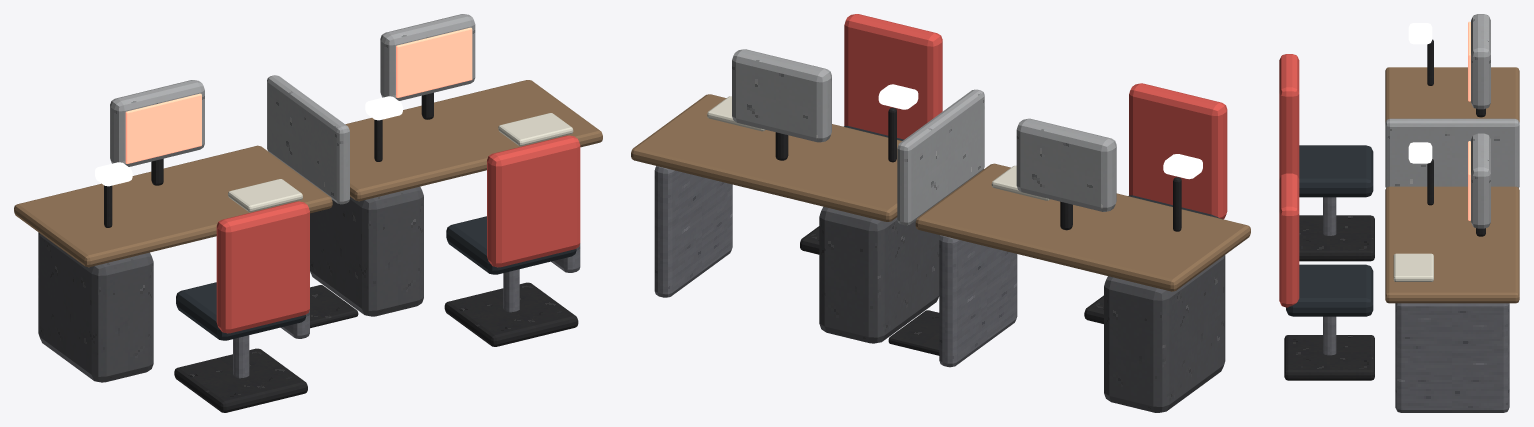
Rendered from decor_sec_officer_desk_bank.glb.
3 renders of one model, left to right at view 1: azimuth 30°, elevation 25°; view 2: azimuth 150°, elevation 25°; view 3: azimuth 270°, elevation 25°, orthographic. The views are drawn at different scales.
Parts seen in each view (by area): view 1: DEC_SecOfficerDeskBank__Desk_Top_1, DEC_SecOfficerDeskBank__Desk_Top_2, DEC_SecOfficerDeskBank__Desk_Drawers_1, DEC_SecOfficerDeskBank__Desk_Drawers_2, DEC_SecOfficerDeskBank__Chair_Back_2, DEC_SecOfficerDeskBank__Chair_Back_1, DEC_SecOfficerDeskBank__Divider, DEC_SecOfficerDeskBank__Chair_Base_2, DEC_SecOfficerDeskBank__Chair_Base_1, DEC_SecOfficerDeskBank__Screen_1, DEC_SecOfficerDeskBank__Screen_2, DEC_SecOfficerDeskBank__Monitor_2 (+10 smaller); view 2: DEC_SecOfficerDeskBank__Desk_Top_1, DEC_SecOfficerDeskBank__Desk_Top_2, DEC_SecOfficerDeskBank__Desk_Drawers_1, DEC_SecOfficerDeskBank__Desk_Drawers_2, DEC_SecOfficerDeskBank__Chair_Back_1, DEC_SecOfficerDeskBank__Chair_Back_2, DEC_SecOfficerDeskBank__Desk_Leg_2, DEC_SecOfficerDeskBank__Desk_Leg_1, DEC_SecOfficerDeskBank__Divider, DEC_SecOfficerDeskBank__Monitor_1, DEC_SecOfficerDeskBank__Monitor_2, DEC_SecOfficerDeskBank__Floor_Anchor (+4 smaller); view 3: DEC_SecOfficerDeskBank__Desk_Top_2, DEC_SecOfficerDeskBank__Desk_Leg_2, DEC_SecOfficerDeskBank__Divider, DEC_SecOfficerDeskBank__Desk_Top_1, DEC_SecOfficerDeskBank__Chair_Seat_2, DEC_SecOfficerDeskBank__Chair_Seat_1, DEC_SecOfficerDeskBank__Chair_Base_2, DEC_SecOfficerDeskBank__Chair_Base_1, DEC_SecOfficerDeskBank__Chair_Back_2, DEC_SecOfficerDeskBank__Chair_Back_1, DEC_SecOfficerDeskBank__Monitor_1, DEC_SecOfficerDeskBank__Monitor_2 (+9 smaller).
Part boxes in pixels (bbox=[...]): DEC_SecOfficerDeskBank__Desk_Top_1: bbox=[14, 145, 332, 267]; DEC_SecOfficerDeskBank__Desk_Top_2: bbox=[345, 80, 602, 201]; DEC_SecOfficerDeskBank__Desk_Drawers_1: bbox=[38, 232, 153, 382]; DEC_SecOfficerDeskBank__Desk_Drawers_2: bbox=[310, 186, 423, 316]; DEC_SecOfficerDeskBank__Chair_Back_2: bbox=[487, 135, 580, 267]; DEC_SecOfficerDeskBank__Chair_Back_1: bbox=[216, 201, 309, 333]; DEC_SecOfficerDeskBank__Divider: bbox=[267, 75, 349, 204]; DEC_SecOfficerDeskBank__Chair_Base_2: bbox=[444, 282, 578, 346]; DEC_SecOfficerDeskBank__Chair_Base_1: bbox=[174, 348, 307, 412]; DEC_SecOfficerDeskBank__Screen_1: bbox=[125, 93, 201, 163]; DEC_SecOfficerDeskBank__Screen_2: bbox=[396, 27, 472, 97]; DEC_SecOfficerDeskBank__Monitor_2: bbox=[380, 14, 475, 100]; DEC_SecOfficerDeskBank__Desk_Top_1: bbox=[915, 163, 1250, 291]; DEC_SecOfficerDeskBank__Desk_Top_2: bbox=[631, 94, 901, 221]; DEC_SecOfficerDeskBank__Desk_Drawers_1: bbox=[1104, 255, 1225, 412]; DEC_SecOfficerDeskBank__Desk_Drawers_2: bbox=[819, 206, 940, 343]; DEC_SecOfficerDeskBank__Chair_Back_1: bbox=[1129, 83, 1227, 219]; DEC_SecOfficerDeskBank__Chair_Back_2: bbox=[844, 14, 942, 139]; DEC_SecOfficerDeskBank__Desk_Leg_2: bbox=[654, 166, 732, 297]; DEC_SecOfficerDeskBank__Desk_Leg_1: bbox=[939, 235, 1017, 367]; DEC_SecOfficerDeskBank__Divider: bbox=[897, 89, 984, 225]; DEC_SecOfficerDeskBank__Monitor_1: bbox=[1016, 118, 1116, 211]; DEC_SecOfficerDeskBank__Monitor_2: bbox=[732, 49, 831, 142]; DEC_SecOfficerDeskBank__Floor_Anchor: bbox=[888, 310, 939, 355]; DEC_SecOfficerDeskBank__Desk_Top_2: bbox=[1385, 186, 1519, 303]; DEC_SecOfficerDeskBank__Desk_Leg_2: bbox=[1395, 303, 1509, 412]; DEC_SecOfficerDeskBank__Divider: bbox=[1385, 118, 1519, 187]; DEC_SecOfficerDeskBank__Desk_Top_1: bbox=[1385, 67, 1519, 122]; DEC_SecOfficerDeskBank__Chair_Seat_2: bbox=[1286, 264, 1373, 316]; DEC_SecOfficerDeskBank__Chair_Seat_1: bbox=[1299, 145, 1373, 197]; DEC_SecOfficerDeskBank__Chair_Base_2: bbox=[1284, 335, 1374, 380]; DEC_SecOfficerDeskBank__Chair_Base_1: bbox=[1299, 215, 1374, 261]; DEC_SecOfficerDeskBank__Chair_Back_2: bbox=[1279, 173, 1299, 307]; DEC_SecOfficerDeskBank__Chair_Back_1: bbox=[1279, 54, 1299, 179]; DEC_SecOfficerDeskBank__Monitor_1: bbox=[1471, 14, 1490, 109]; DEC_SecOfficerDeskBank__Monitor_2: bbox=[1471, 133, 1490, 228].
Size of the model in its own units: 3.22 by 1.44 by 1.43.
Materials: 10 (4 with a texture image).
